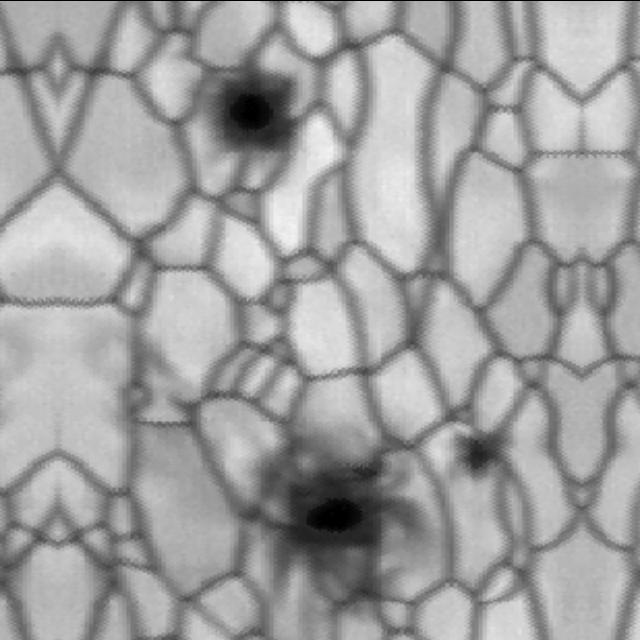good_void: (224, 421, 449, 640), (202, 51, 310, 193), (428, 404, 522, 499)
